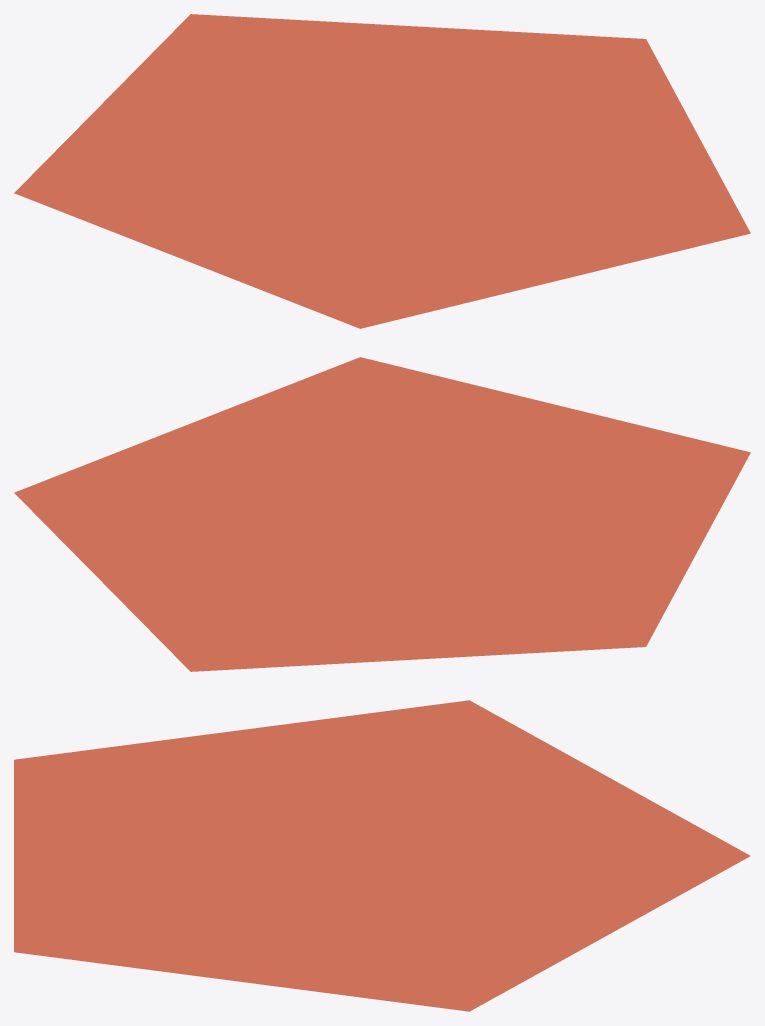
The model's file is flower_0.fbx.
3 renders of one model, top to bottom at view 1: azimuth 30°, elevation 25°; view 2: azimuth 150°, elevation 25°; view 3: azimuth 270°, elevation 25°, orthographic.
Visible parts, largest first — view 1: Plane; view 2: Plane; view 3: Plane.
Part boxes in pixels (x1,y1,x2,y2): Plane: (14,14,750,328); Plane: (14,357,750,671); Plane: (14,700,750,1011).
Bounding box in the file's own units: 200 × 0 × 200.
